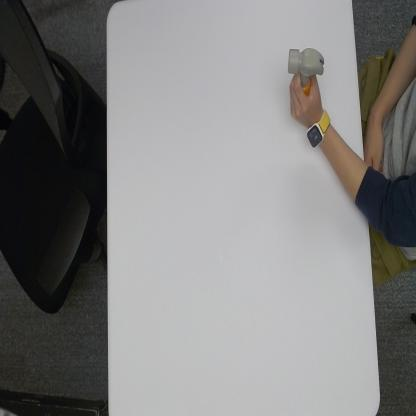Arm: (326, 126, 363, 219)
Hammer: (288, 48, 326, 95)
Hand: (289, 73, 324, 125)
